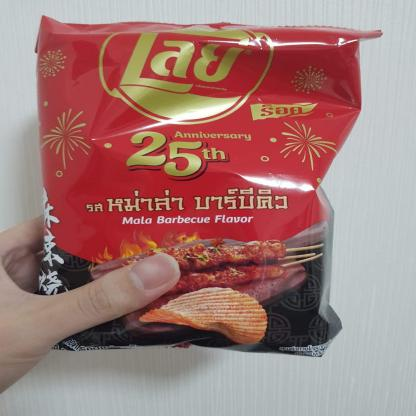potatochip: (16, 11, 394, 359)
